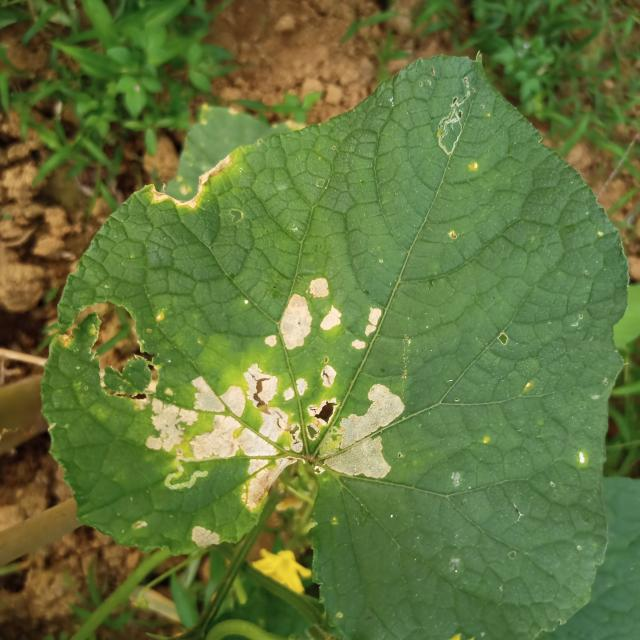disease_cucumber: (150, 275, 414, 517)
